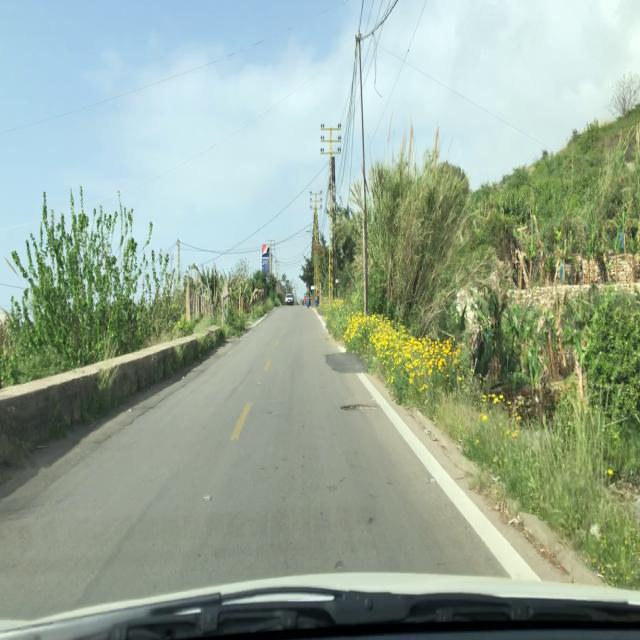Pothole: (339, 402, 377, 415)
